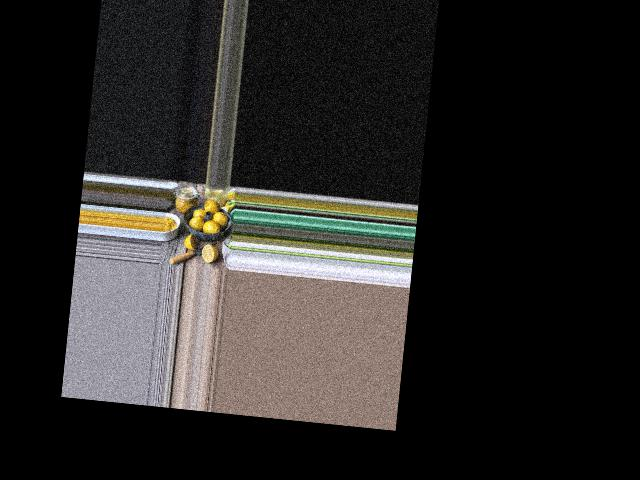lemon: (188, 215, 203, 231)
